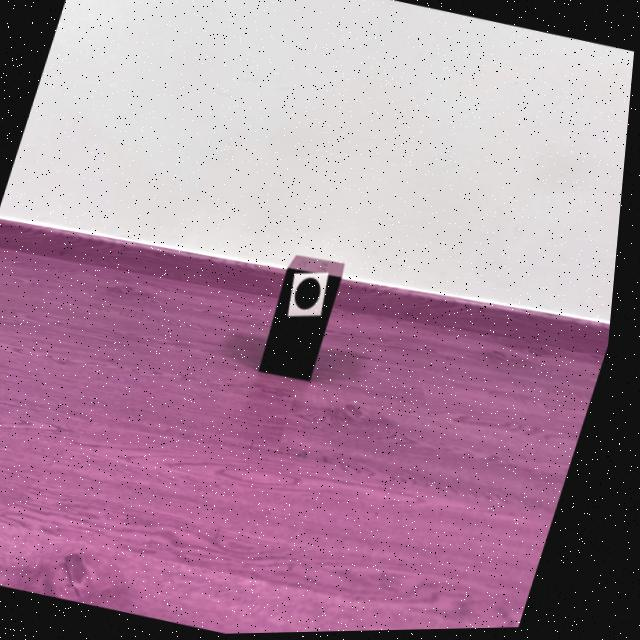CIRCLE: (300, 278, 326, 311)
